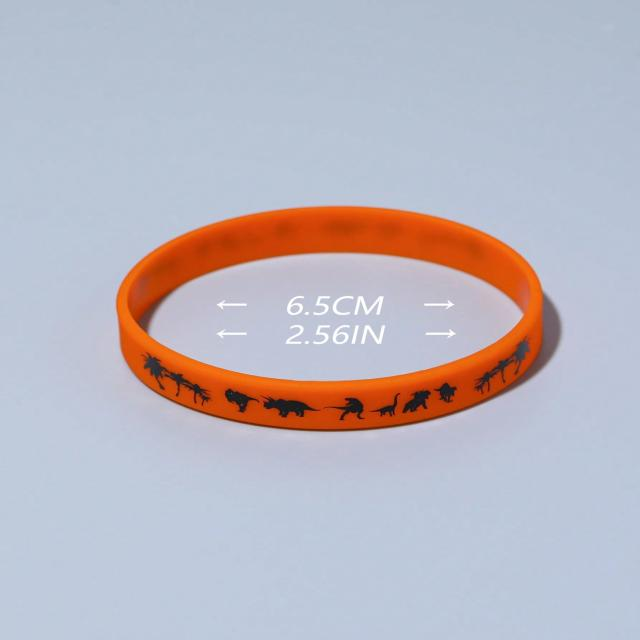bracelet: (54, 160, 640, 488)
